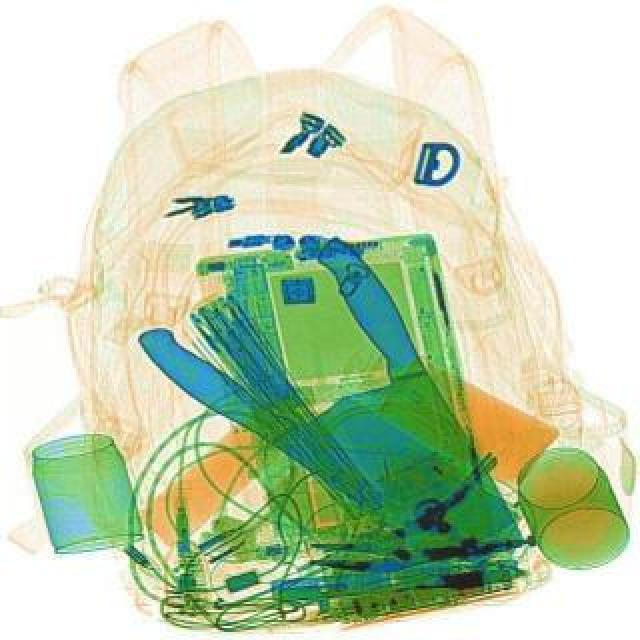knife: (126, 278, 522, 582), (252, 228, 524, 586)
